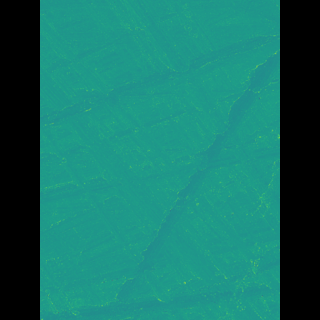Loch: (69, 0, 248, 320), (123, 48, 250, 312)
